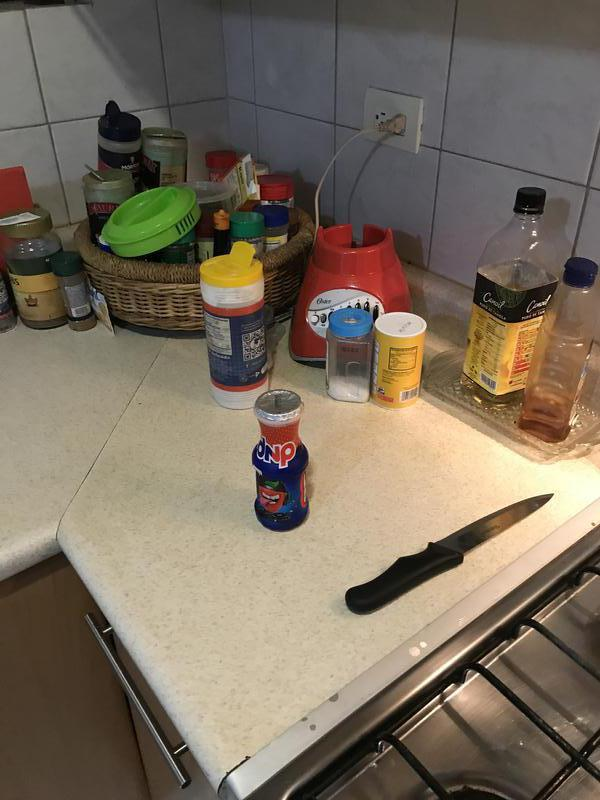danup: (251, 387, 312, 534)
